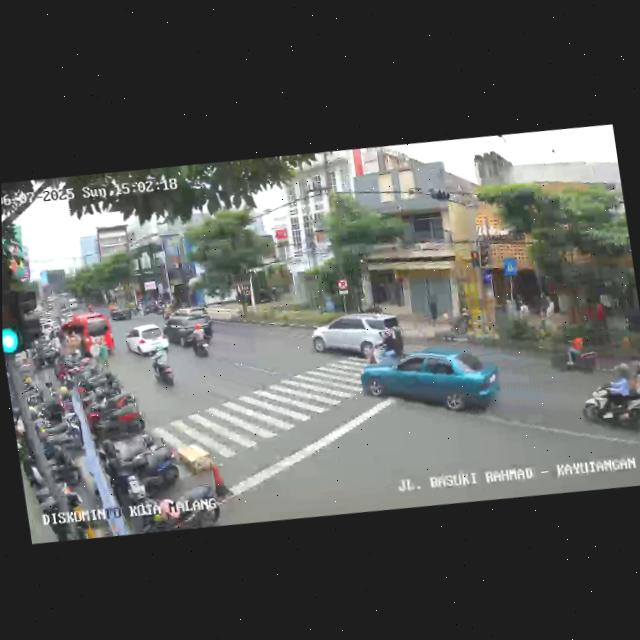car: (355, 332, 508, 437), (308, 304, 408, 372), (60, 310, 116, 364), (162, 305, 216, 349), (123, 321, 171, 363), (108, 303, 133, 323)
motorcycle: (575, 360, 640, 444), (545, 328, 601, 381), (147, 343, 178, 392), (188, 322, 214, 360)
